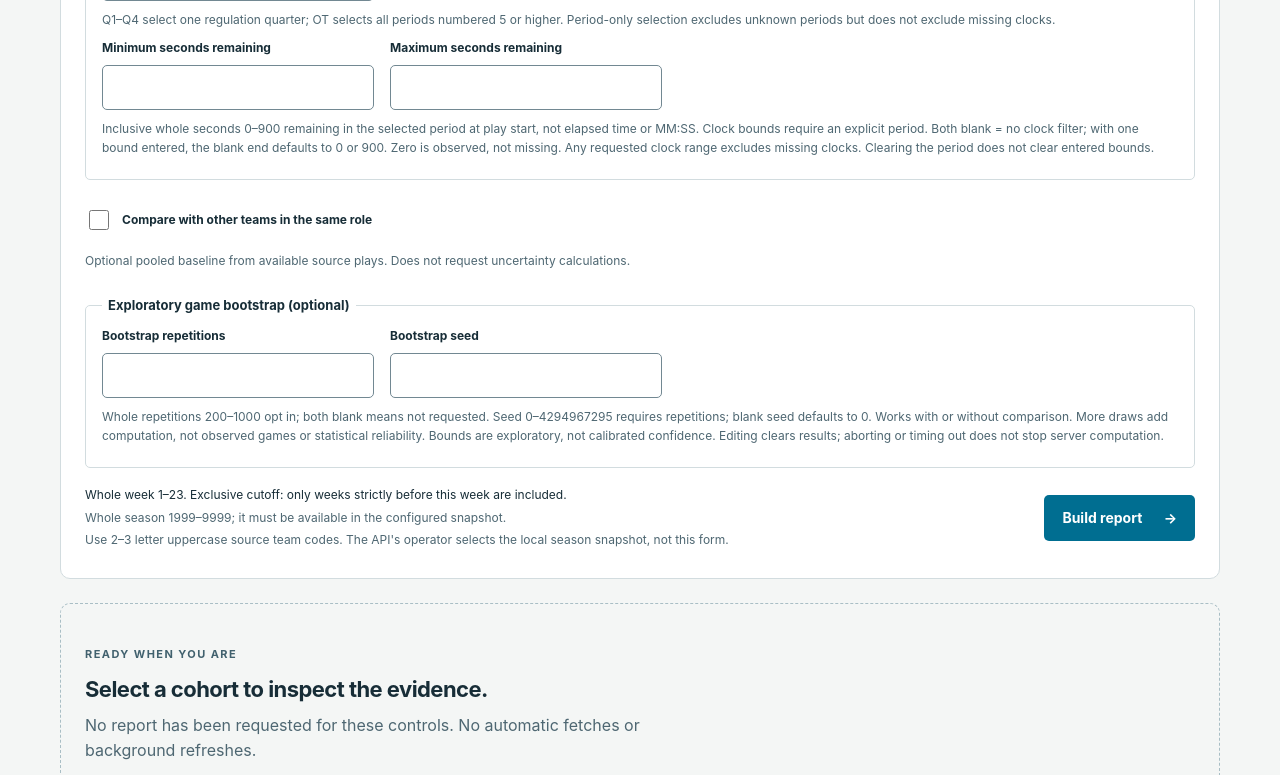
Test: uncertainty display and request lifecycle › starts blank with no automatic request, and handles invalid text without silent fallback
(page scrolled)
Expected: the field labelled "Bootstrap seed" is empty, [390,353,662,398]
Type "2e2" into the field labelled "Bootstrap repetitions" at point(238, 375), box [102,353,374,398]
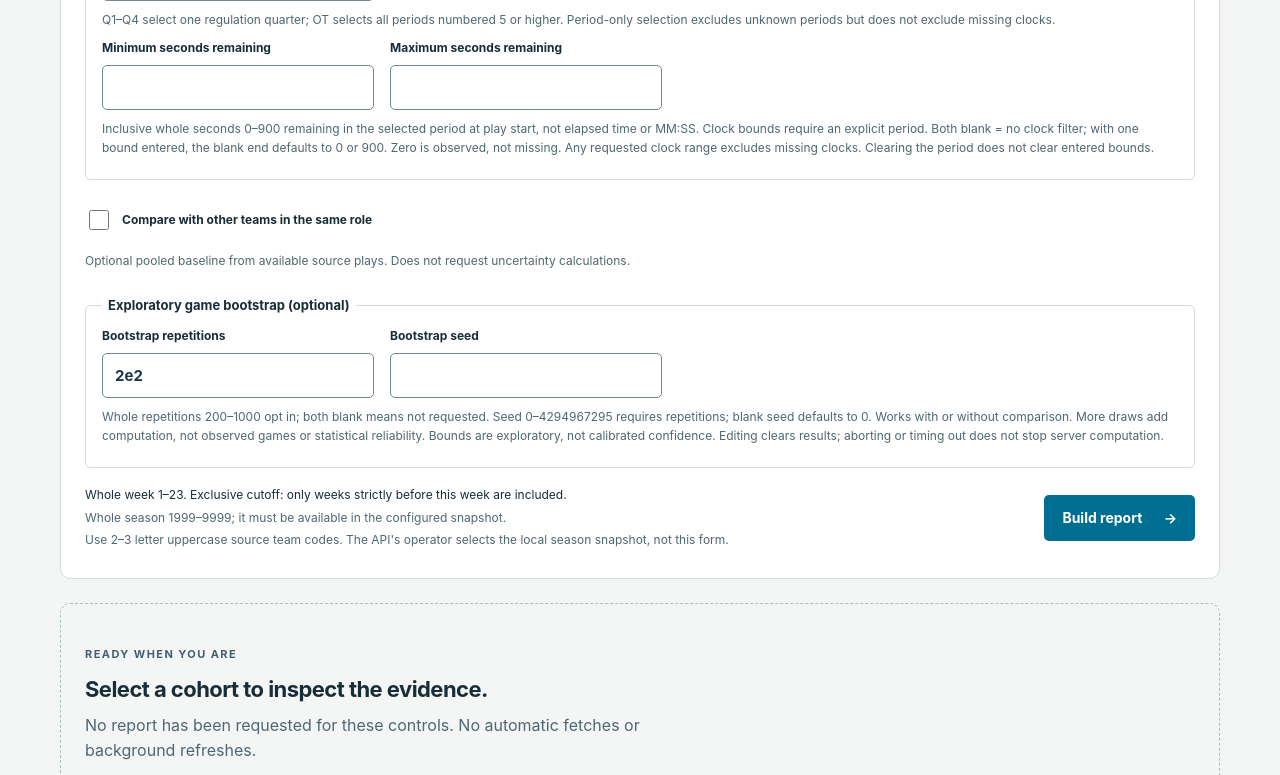
Click the button "Build report →" at point(1120, 518), box [1044,495,1195,541]
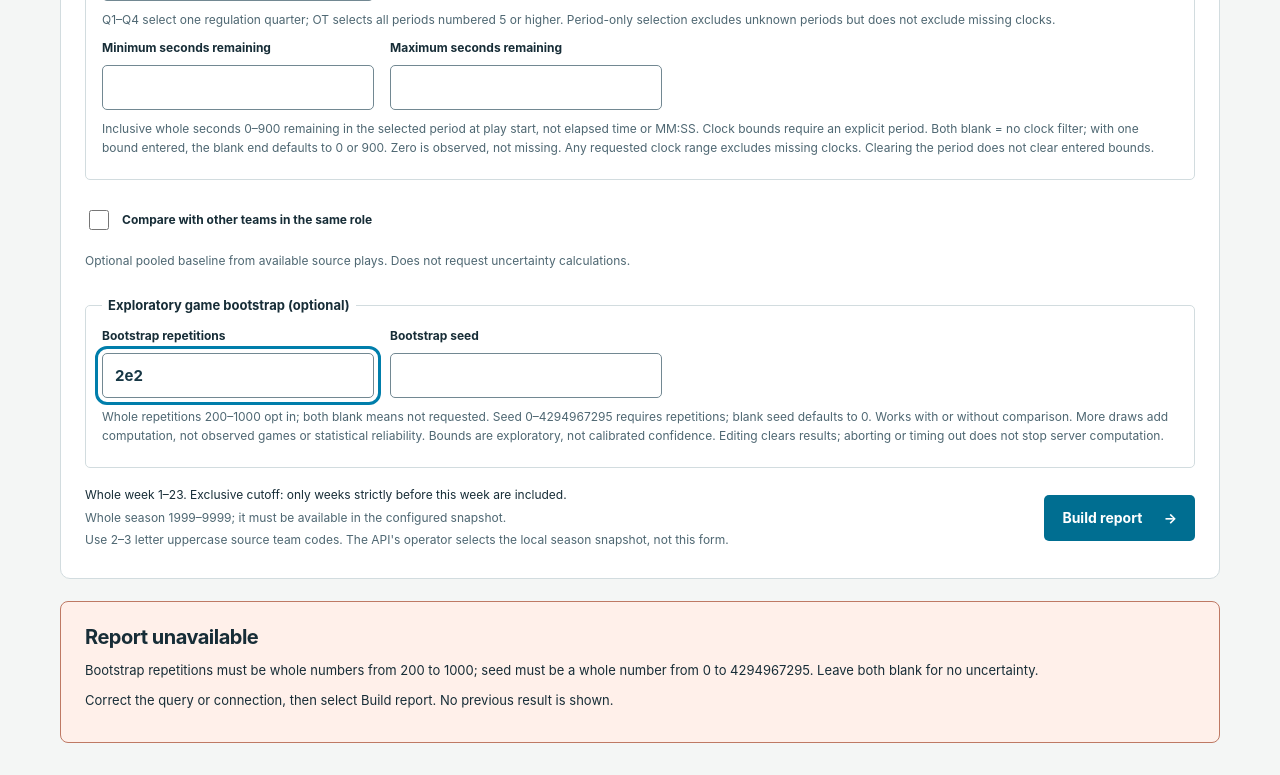
Expected: the message shows "Bootstrap repetitions", [85,662,1039,678]
Clear the field labelled "Bootstrap repetitions" at point(238, 375), box [102,353,374,398]
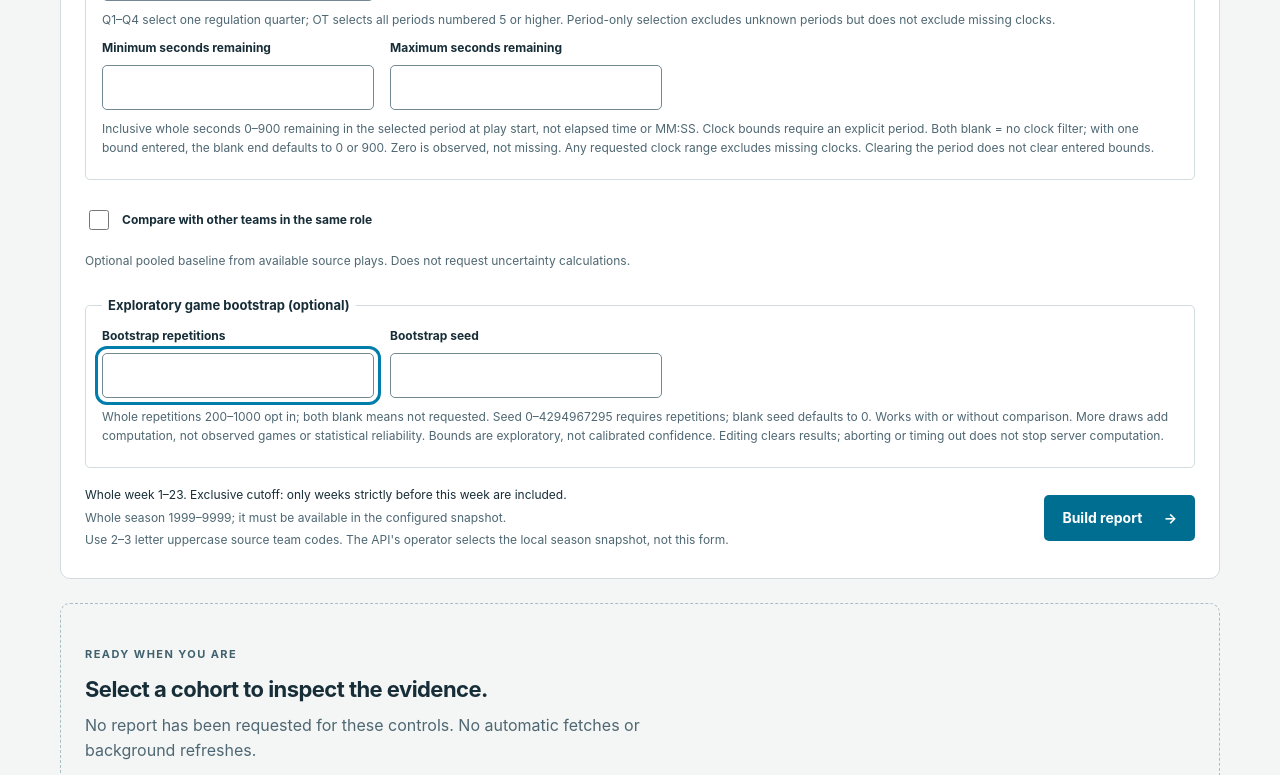
Type "0" into the field labelled "Bootstrap seed" at point(526, 375), box [390,353,662,398]
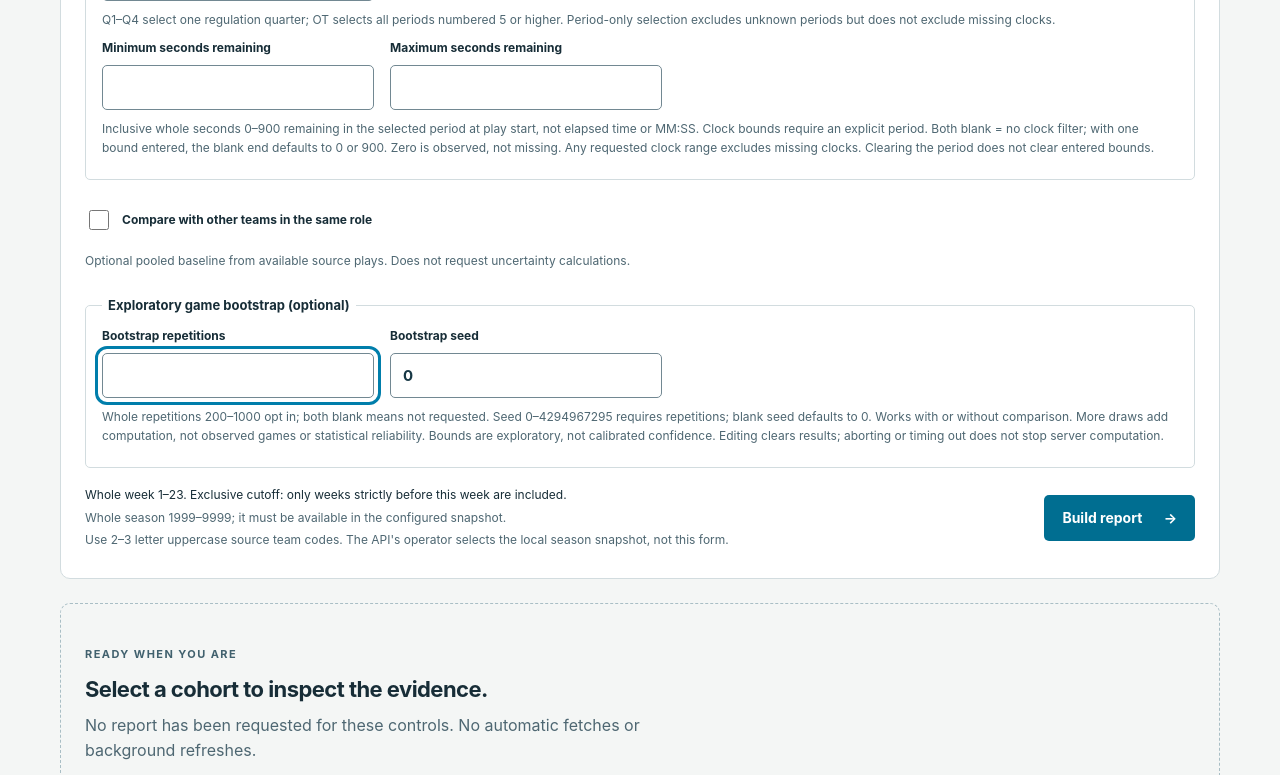
Click the button "Build report →" at point(1120, 518), box [1044,495,1195,541]
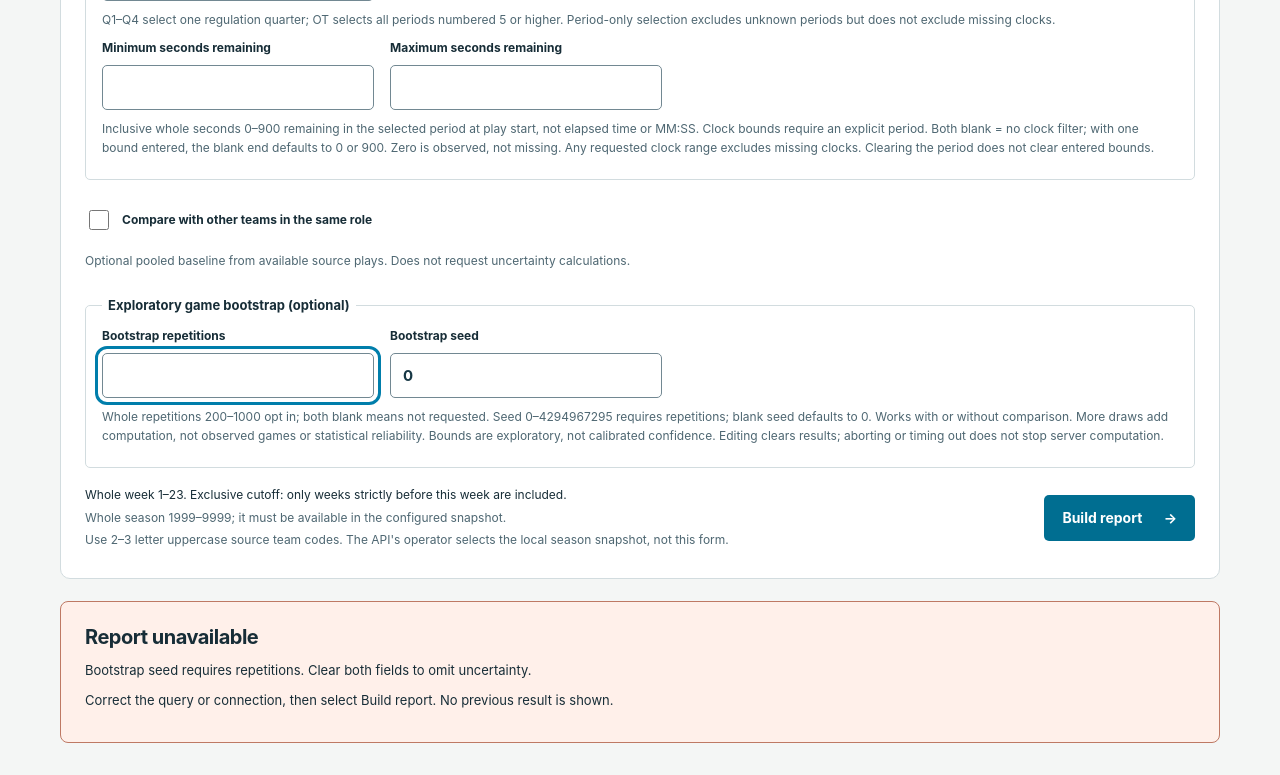
Expected: the message shows "seed requires repetitions", [85,662,531,678]
